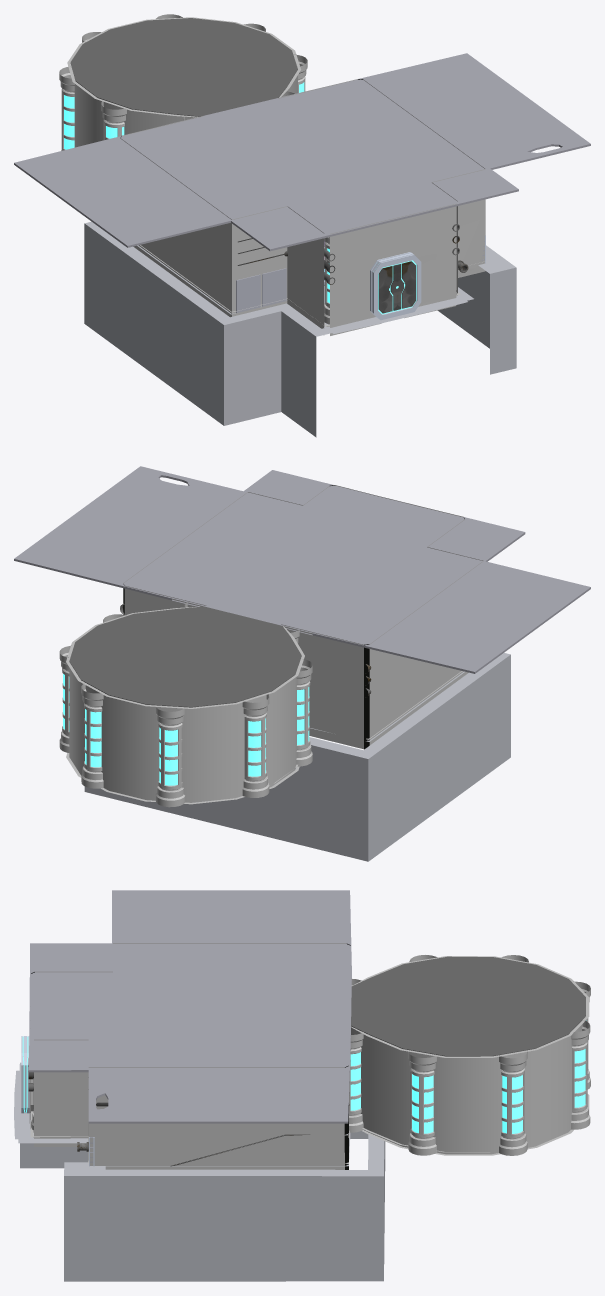
The model's file is Interieur_Passe_fini.fbx.
The picture shows the model from 3 angles, top to bottom: view 1: azimuth 30°, elevation 25°; view 2: azimuth 150°, elevation 25°; view 3: azimuth 270°, elevation 25°; orthographic projection. The views are drawn at different scales.
Parts seen in each view (by area): view 1: Salle1Plafond, Sol_022, Salle1.002, SalleAscenseurPlafond_001, SalleAscenseur_001, PorteVersLaboG_002, PorteVersLaboD_002, SolSalle1_001, GrosTuyauNeon_011.003, Casiers_003, Casiers_004, GrosTuyauNeon_011.002; view 2: Salle1Plafond, Sol_022, SalleAscenseurPlafond_001, SalleAscenseur_001, Salle1.002, GrosTuyauNeon_011.004, GrosTuyauNeon_011.003, GrosTuyauNeon_011.005, GrosTuyauNeon_011.002, GrosTuyauNeon_011.006; view 3: Salle1Plafond, Sol_022, SalleAscenseurPlafond_001, SalleAscenseur_001, Salle1.002, GrosTuyauNeon_011.007, GrosTuyauNeon_011.006, GrosTuyauNeon_011.005, GrosTuyauNeon_011.008, SolSalle1_001, PorteVersLaboD_002.
Part boxes in pixels (box(x1,y1,x2,y2)): Salle1Plafond: box(14, 53, 590, 251); Sol_022: box(84, 221, 516, 437); Salle1.002: box(120, 79, 485, 335); SalleAscenseurPlafond_001: box(70, 18, 297, 117); SalleAscenseur_001: box(67, 17, 300, 147); PorteVersLaboG_002: box(370, 256, 397, 320); PorteVersLaboD_002: box(394, 252, 421, 315); SolSalle1_001: box(137, 245, 467, 333); GrosTuyauNeon_011.003: box(59, 66, 74, 150); Casiers_003: box(262, 268, 286, 306); Casiers_004: box(236, 274, 260, 312); GrosTuyauNeon_011.002: box(101, 101, 126, 140); Salle1Plafond: box(14, 466, 590, 673); Sol_022: box(84, 653, 510, 861); SalleAscenseurPlafond_001: box(69, 606, 301, 707); SalleAscenseur_001: box(66, 606, 304, 804); Salle1.002: box(123, 485, 483, 749); GrosTuyauNeon_011.004: box(155, 707, 185, 807); GrosTuyauNeon_011.003: box(242, 694, 269, 797); GrosTuyauNeon_011.005: box(81, 683, 103, 788); GrosTuyauNeon_011.002: box(296, 659, 312, 766); GrosTuyauNeon_011.006: box(59, 645, 71, 752); Salle1Plafond: box(29, 890, 351, 1123); Sol_022: box(18, 1062, 385, 1281); SalleAscenseurPlafond_001: box(351, 956, 585, 1056); SalleAscenseur_001: box(351, 956, 589, 1155); Salle1.002: box(29, 943, 350, 1169); GrosTuyauNeon_011.007: box(408, 1051, 436, 1155); GrosTuyauNeon_011.006: box(499, 1051, 527, 1155); GrosTuyauNeon_011.005: box(571, 1020, 590, 1129); GrosTuyauNeon_011.008: box(349, 1033, 363, 1132); SolSalle1_001: box(14, 1070, 350, 1166); PorteVersLaboD_002: box(21, 1044, 29, 1113).
Size of the model in its own units: 4809 by 1986 by 5075.
